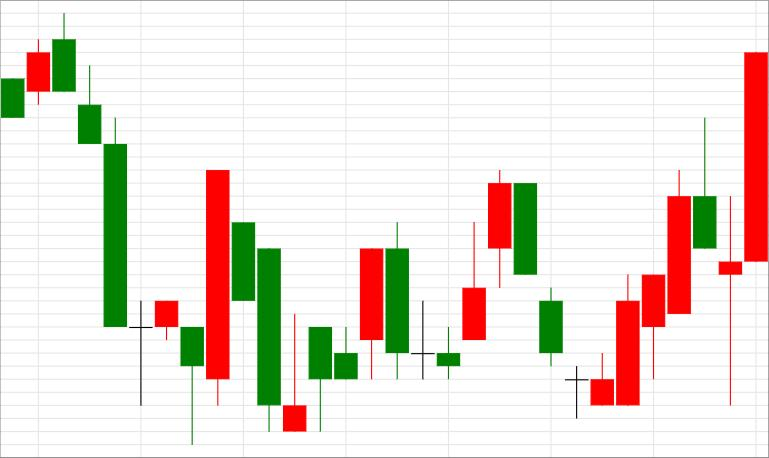hammer_rise: (53, 14, 203, 444)
